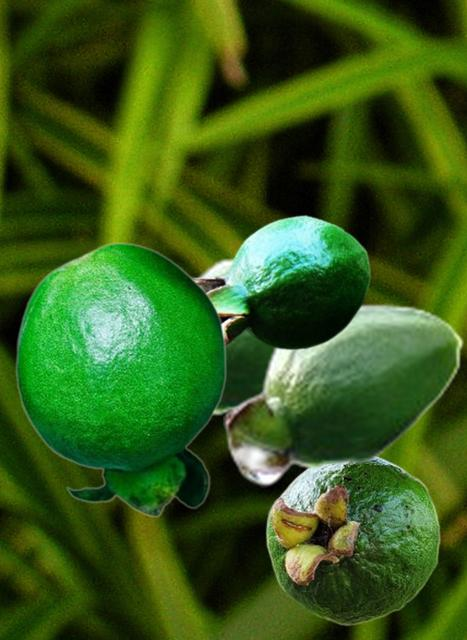guava: (14, 242, 226, 516), (223, 302, 463, 486), (265, 455, 440, 625), (193, 214, 370, 352), (192, 254, 271, 420)
